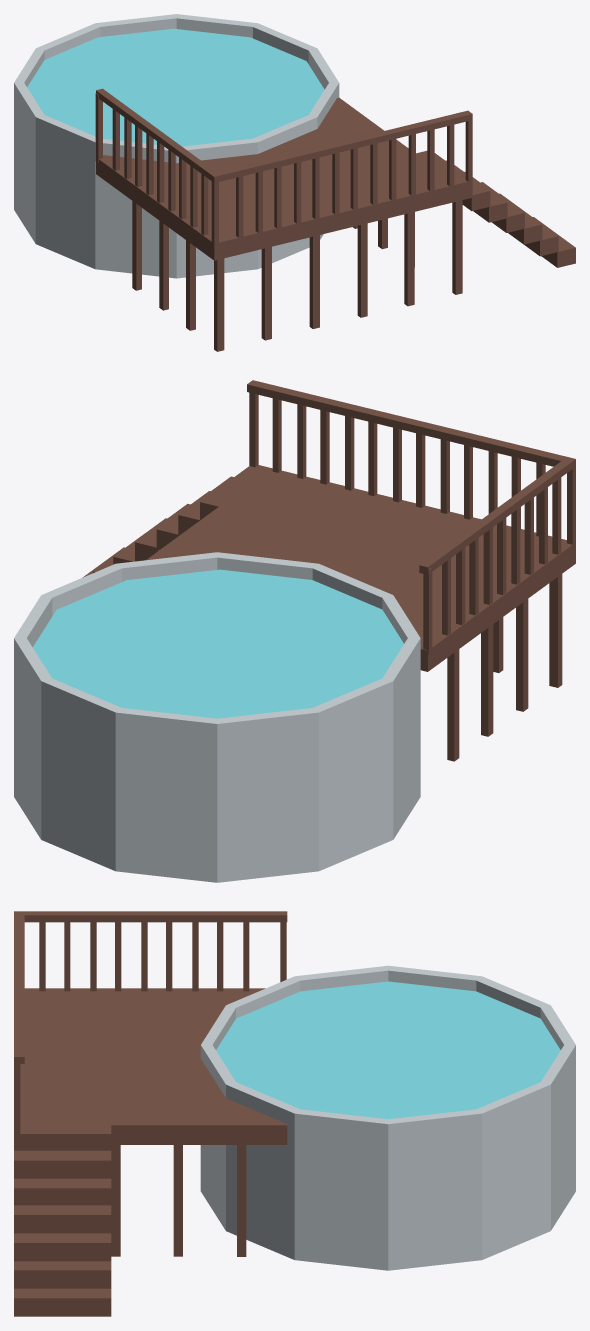
Rendered from Pool.fbx.
The picture shows the model from 3 angles, top to bottom: view 1: azimuth 30°, elevation 25°; view 2: azimuth 150°, elevation 25°; view 3: azimuth 270°, elevation 25°; orthographic projection. The views are drawn at different scales.
Visible parts, largest first — view 1: group_1792106970, group_744572399, mesh_2083928091, mesh_384423605, mesh_1547618798, mesh_159245246, mesh_821262863, mesh_2123192079, mesh_1725194986, mesh_2061981351, mesh_803940862, mesh_1033315275 (+33 smaller); view 2: group_1792106970, group_744572399, mesh_2083928091, mesh_384423605, mesh_1547618798, mesh_2061981351, mesh_1033315275, mesh_1634295885, mesh_22139958, mesh_456494125, mesh_138664171, mesh_1633255589 (+20 smaller); view 3: group_1792106970, group_744572399, mesh_2083928091, mesh_1547618798, mesh_932982275, mesh_120552648, mesh_1757804522, mesh_1296326403, mesh_1860434659, mesh_1119336007, mesh_456494125, mesh_384423605 (+4 smaller).
Boxes of the visible parts, <box> form: group_1792106970: <box>14,14,339,278</box>; group_744572399: <box>27,28,324,146</box>; mesh_2083928091: <box>96,97,457,260</box>; mesh_384423605: <box>209,110,472,182</box>; mesh_1547618798: <box>96,88,221,181</box>; mesh_159245246: <box>452,200,462,294</box>; mesh_821262863: <box>357,223,367,317</box>; mesh_2123192079: <box>404,212,414,306</box>; mesh_1725194986: <box>309,235,319,328</box>; mesh_2061981351: <box>214,258,224,351</box>; mesh_803940862: <box>261,246,271,340</box>; mesh_1033315275: <box>186,240,195,330</box>; group_1792106970: <box>14,552,420,882</box>; group_744572399: <box>33,569,403,718</box>; mesh_2083928091: <box>146,468,575,671</box>; mesh_384423605: <box>247,380,575,470</box>; mesh_1547618798: <box>419,457,572,574</box>; mesh_2061981351: <box>549,574,562,687</box>; mesh_1033315275: <box>516,599,528,711</box>; mesh_1634295885: <box>481,624,493,736</box>; mesh_22139958: <box>447,649,459,761</box>; mesh_456494125: <box>200,465,271,520</box>; mesh_138664171: <box>423,567,432,654</box>; mesh_1633255589: <box>416,421,425,507</box>; group_1792106970: <box>200,965,575,1270</box>; group_744572399: <box>216,981,560,1119</box>; mesh_2083928091: <box>20,988,287,1144</box>; mesh_1547618798: <box>14,911,287,922</box>; mesh_932982275: <box>14,1150,111,1178</box>; mesh_120552648: <box>14,1205,111,1233</box>; mesh_1757804522: <box>14,1233,111,1261</box>; mesh_1296326403: <box>14,1288,111,1316</box>; mesh_1860434659: <box>14,1261,111,1288</box>; mesh_1119336007: <box>14,1178,111,1205</box>; mesh_456494125: <box>14,1125,111,1150</box>; mesh_384423605: <box>14,915,24,1063</box>.
Bounding box in the file's own units: 326 × 150 × 364.
